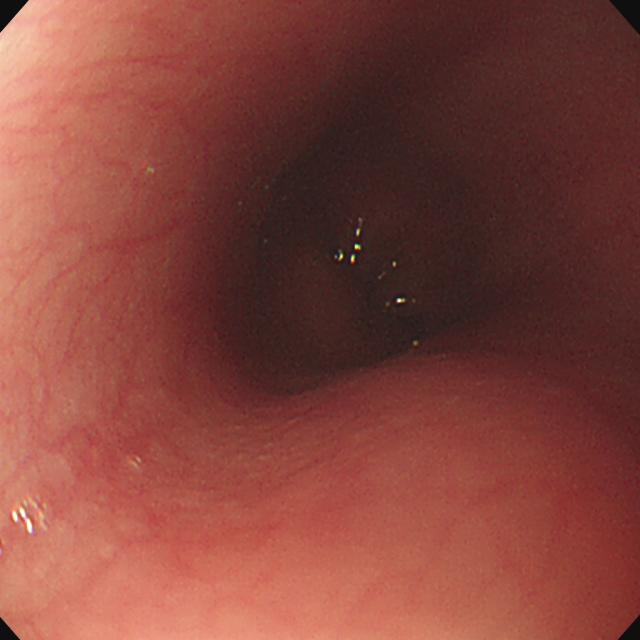U: (11, 507, 36, 534), (351, 226, 362, 265)
